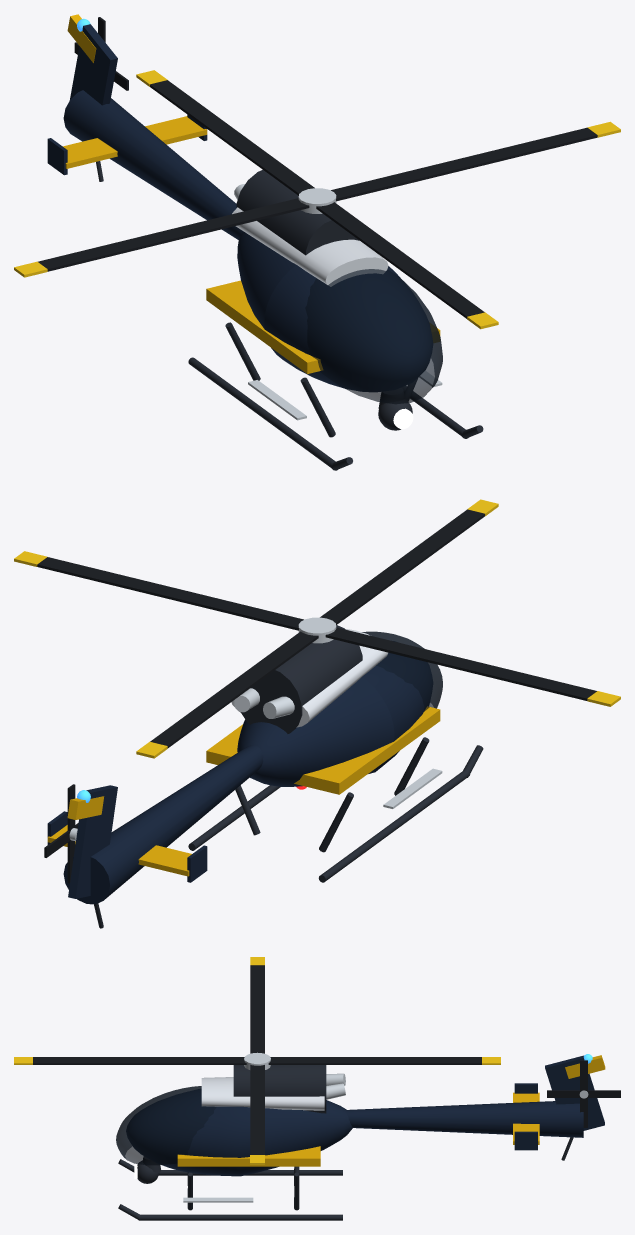
The model's file is heli.glb.
3 renders of one model, top to bottom at view 1: azimuth 30°, elevation 25°; view 2: azimuth 150°, elevation 25°; view 3: azimuth 270°, elevation 25°, orthographic. The views are drawn at different scales.
Visible parts, largest first — view 1: Fuselage, Cube004; view 2: Fuselage, Cube004, Cube002; view 3: Fuselage, Cube004, Cube002.
Part boxes in pixels (x1,y1,x2,y2): Fuselage: [47, 14, 483, 470]; Cube004: [14, 70, 620, 329]; Fuselage: [47, 625, 483, 928]; Cube004: [14, 499, 620, 758]; Cube002: [44, 784, 78, 883]; Fuselage: [116, 1054, 605, 1220]; Cube004: [14, 957, 500, 1164]; Cube002: [547, 1060, 620, 1127].
Bounding box in the file's own units: 8.7 × 2.83 × 10.84.
